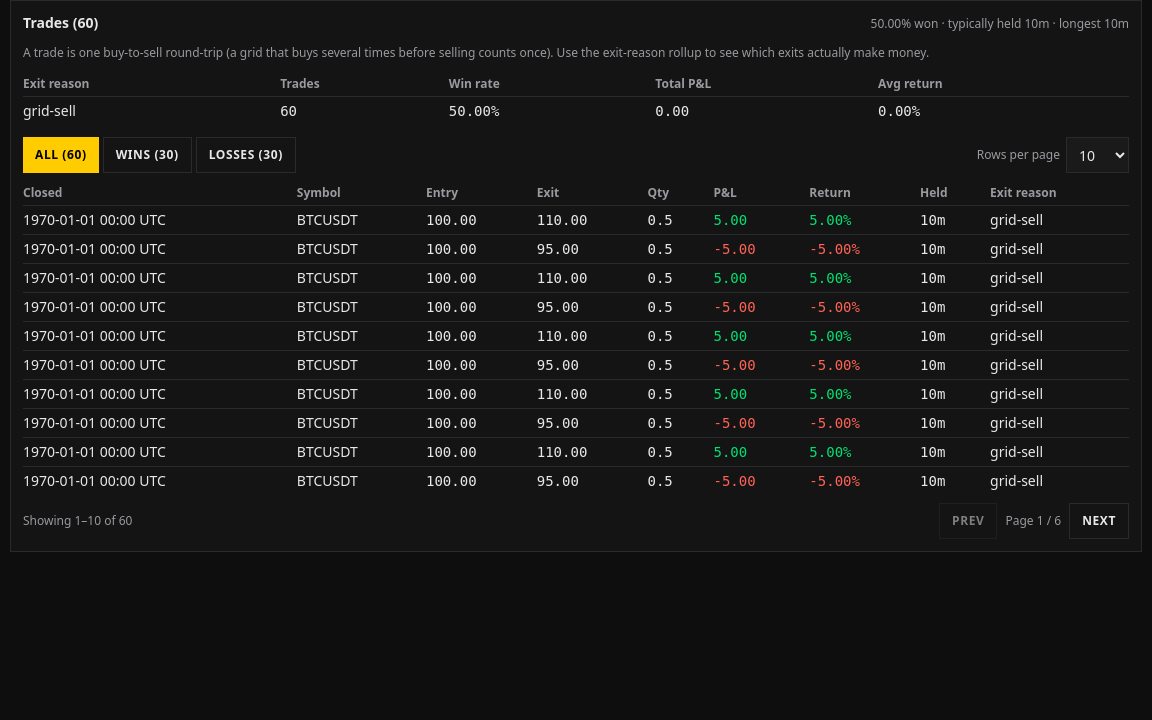
Test: BacktestRoundTrips pagination + filter › filters the table to winners or losers, resetting the page, while the summary stays full
This screenshot has width=1152, height=720.
Expected: the text with test id "backtest-round-trips-summary" shows "50.00% won", [870, 16, 1129, 32]
Click the button with test id "bt-trades-next" at (1099, 521), box [1069, 503, 1129, 539]
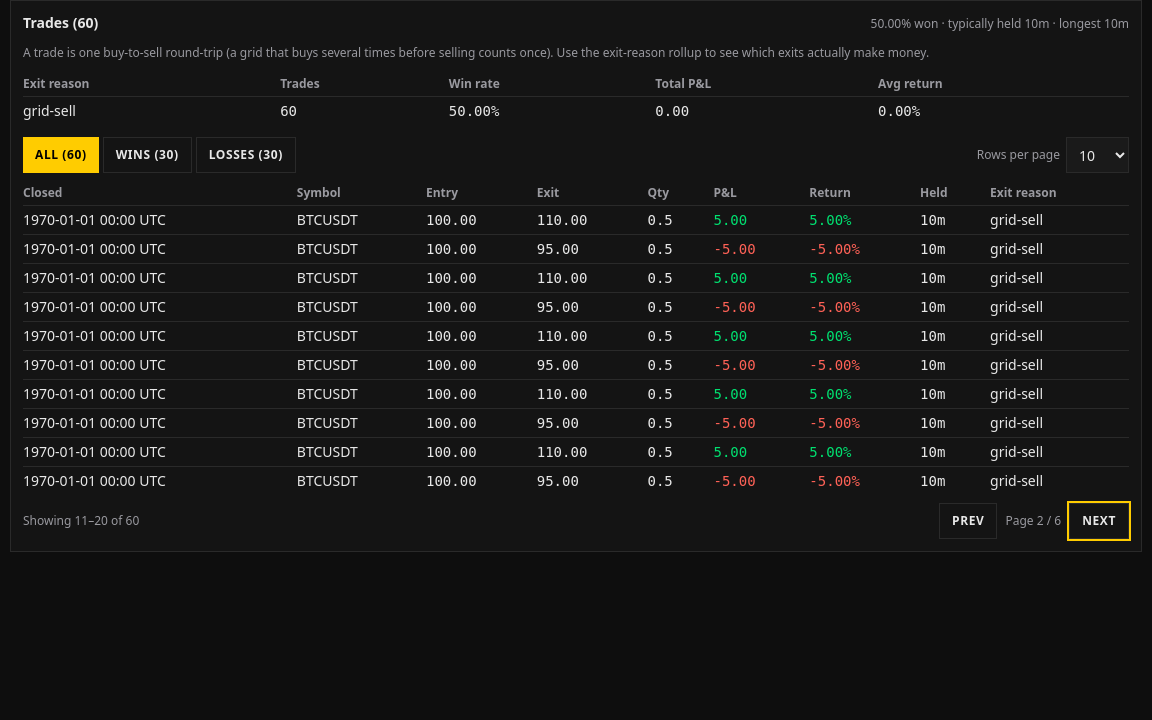
Click the button with test id "bt-trades-filter-losses" at (246, 155), box [196, 137, 296, 173]
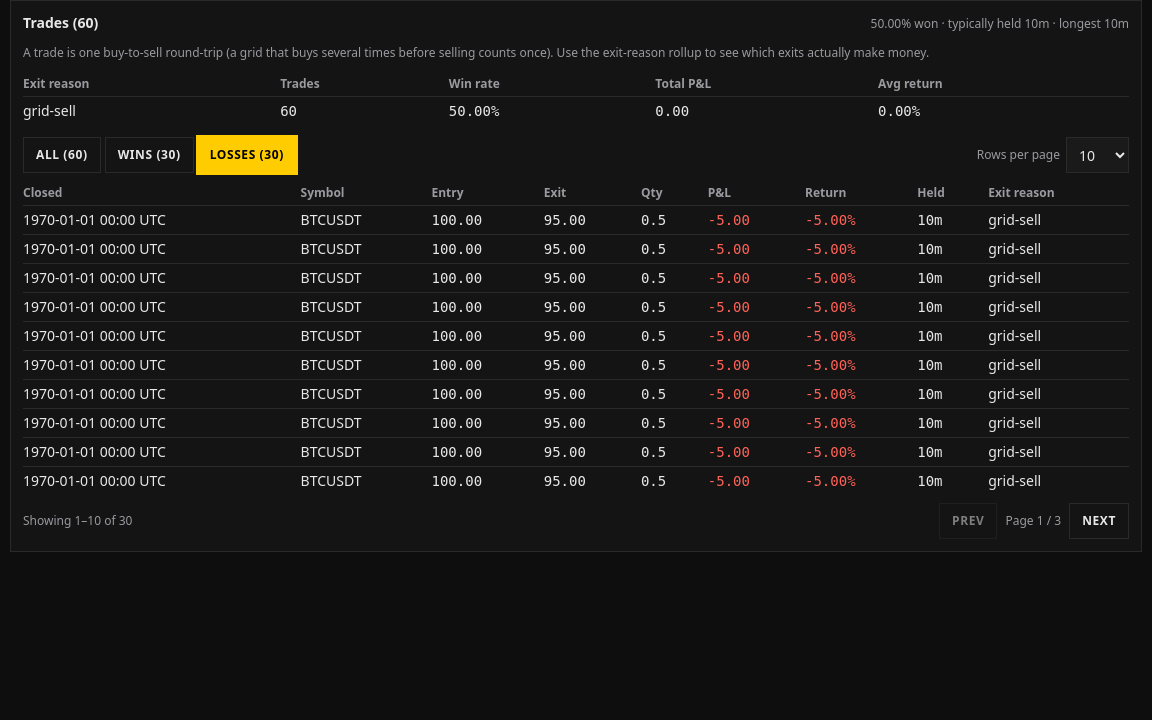
Expected: the text with test id "backtest-round-trips-summary" shows "50.00% won", [870, 16, 1129, 32]
Expected: the text with test id "bt-trades-range" reads "Showing 1–10 of 30", [23, 512, 132, 529]
